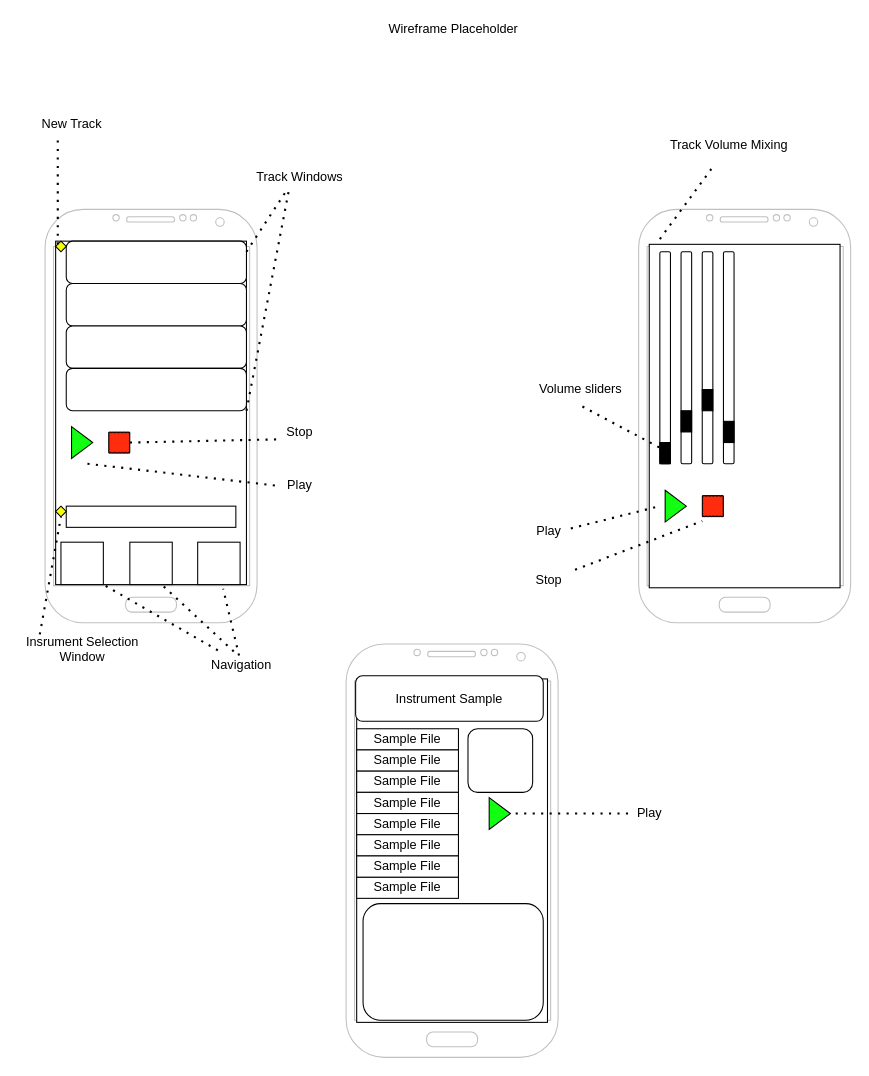
Image size: 869x1076. Some labels were removed from this diagram. The shapes that lost their labels are listed below. From the top down, each one's centre as x and y in pixels, then its label:
At (x=500, y=760): "Preview Selected Sample File".
At (x=452, y=961): "Instrument Image".
